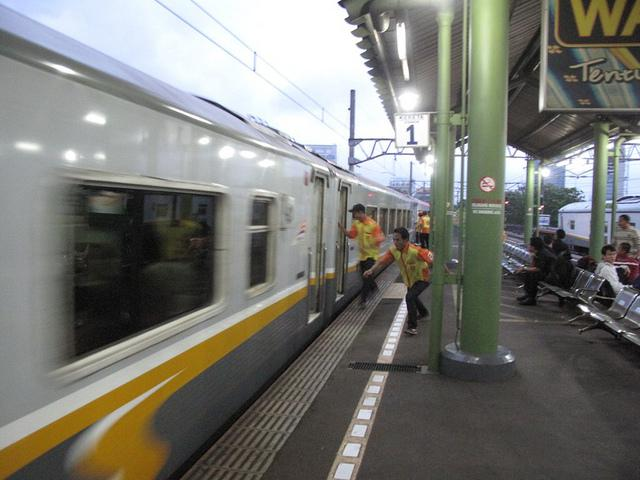Train: (0, 3, 428, 476), (558, 197, 640, 249)
